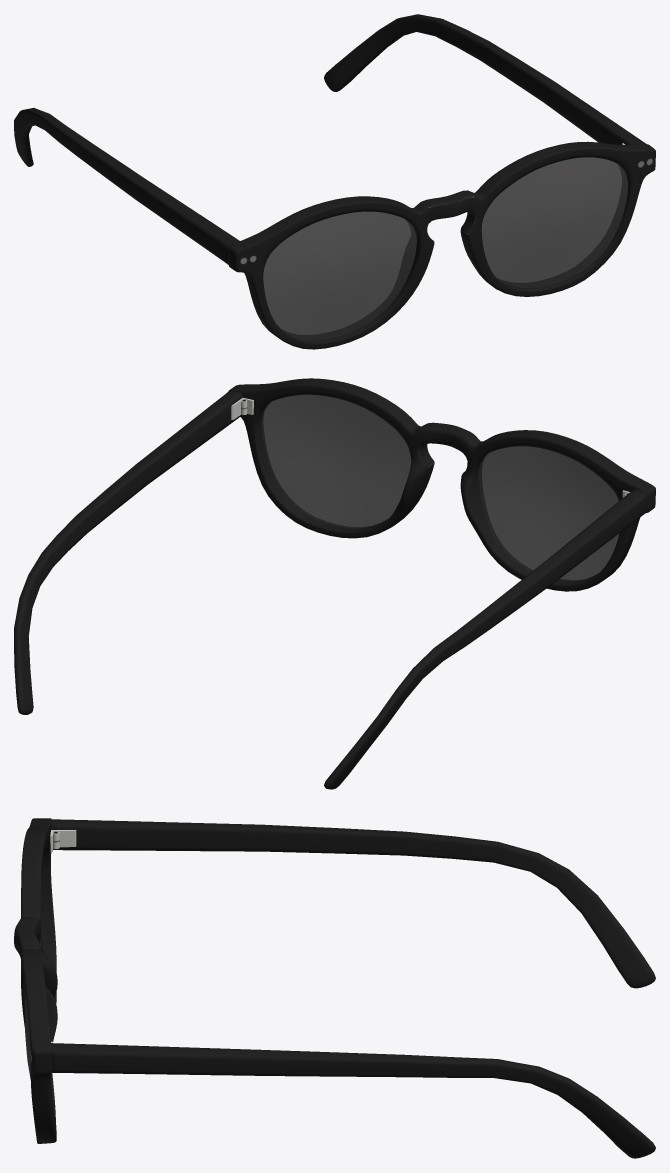
The model's file is glasses3.glb.
3 views of the same model, one above another, from view 1: azimuth 30°, elevation 25°; view 2: azimuth 150°, elevation 25°; view 3: azimuth 270°, elevation 25° (orthographic). The views are drawn at different scales.
Visible parts, largest first — view 1: Plane.003_Inesta_01_0; view 2: Plane.003_Inesta_01_0; view 3: Plane.003_Inesta_01_0.
Part boxes in pixels (x1=…): Plane.003_Inesta_01_0: x1=14, y1=14, x2=655, y2=349; Plane.003_Inesta_01_0: x1=14, y1=378, x2=655, y2=789; Plane.003_Inesta_01_0: x1=14, y1=818, x2=655, y2=1158.
Bounding box in the file's own units: 0.7008 × 0.2328 × 0.8126.
Materials: 1 (1 with a texture image).
